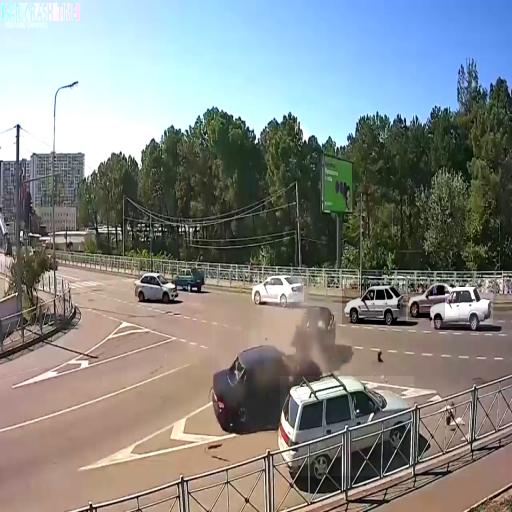小汽车: (280, 376, 414, 476), (342, 284, 406, 324), (431, 288, 493, 328), (252, 276, 304, 306), (135, 270, 179, 302), (408, 284, 445, 320), (172, 261, 204, 293)
小汽车撞小汽车: (212, 302, 338, 430)
